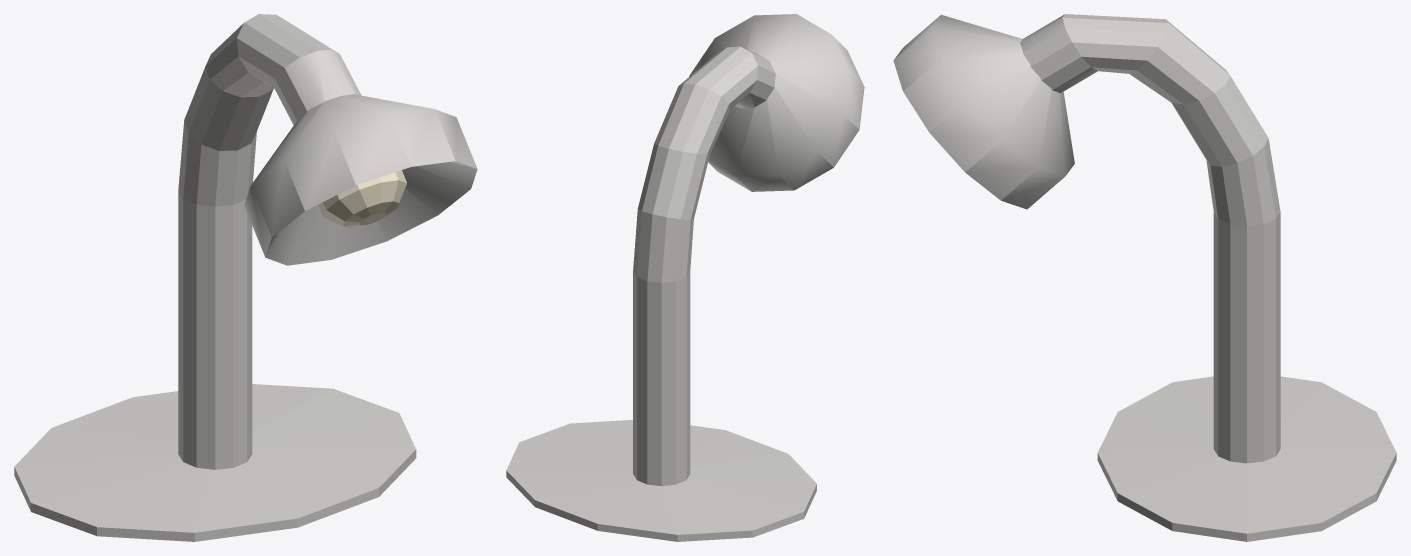
The model's file is Desk Lamp.fbx.
The picture shows the model from 3 angles, left to right: view 1: azimuth 30°, elevation 25°; view 2: azimuth 150°, elevation 25°; view 3: azimuth 270°, elevation 25°; orthographic projection. The views are drawn at different scales.
Parts seen in each view (by area): view 1: pCylinder4; view 2: pCylinder4; view 3: pCylinder4.
Part boxes in pixels (x1,y1,x2,y2): pCylinder4: [14, 14, 477, 541]; pCylinder4: [506, 14, 864, 541]; pCylinder4: [893, 14, 1396, 541].
Size of the model in its own units: 7.28 by 9.27 by 9.54.
